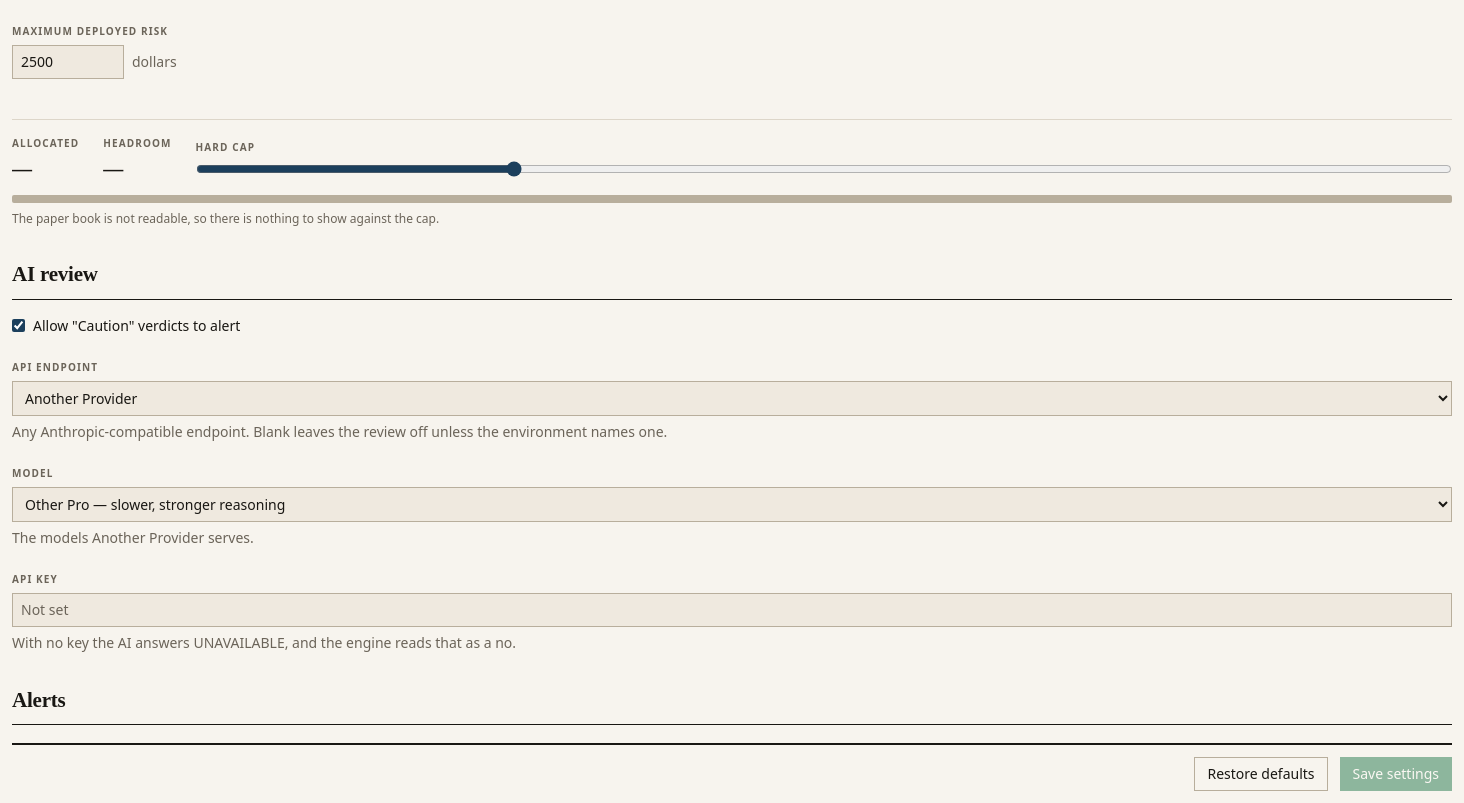
Test: Settings · AI provider picker › lists the picked provider's models and drops the one before
(page scrolled)
Select "Anthropic" in the dropdown labelled "API endpoint" at (732, 398), box [12,381,1452,416]
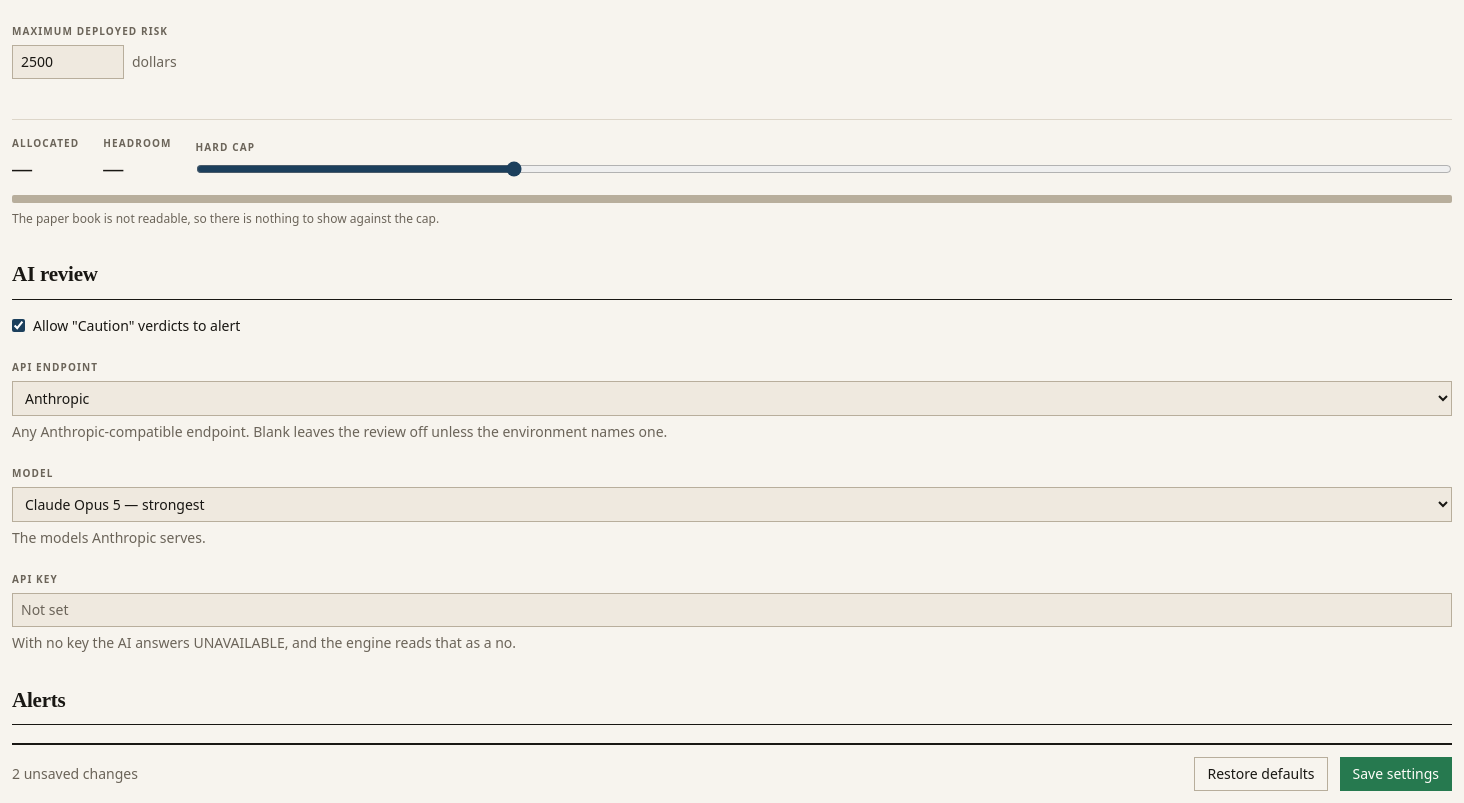
Expected: the dropdown labelled "Model" shows "Claude Opus 5 — strongest", [12,487,1452,522]
